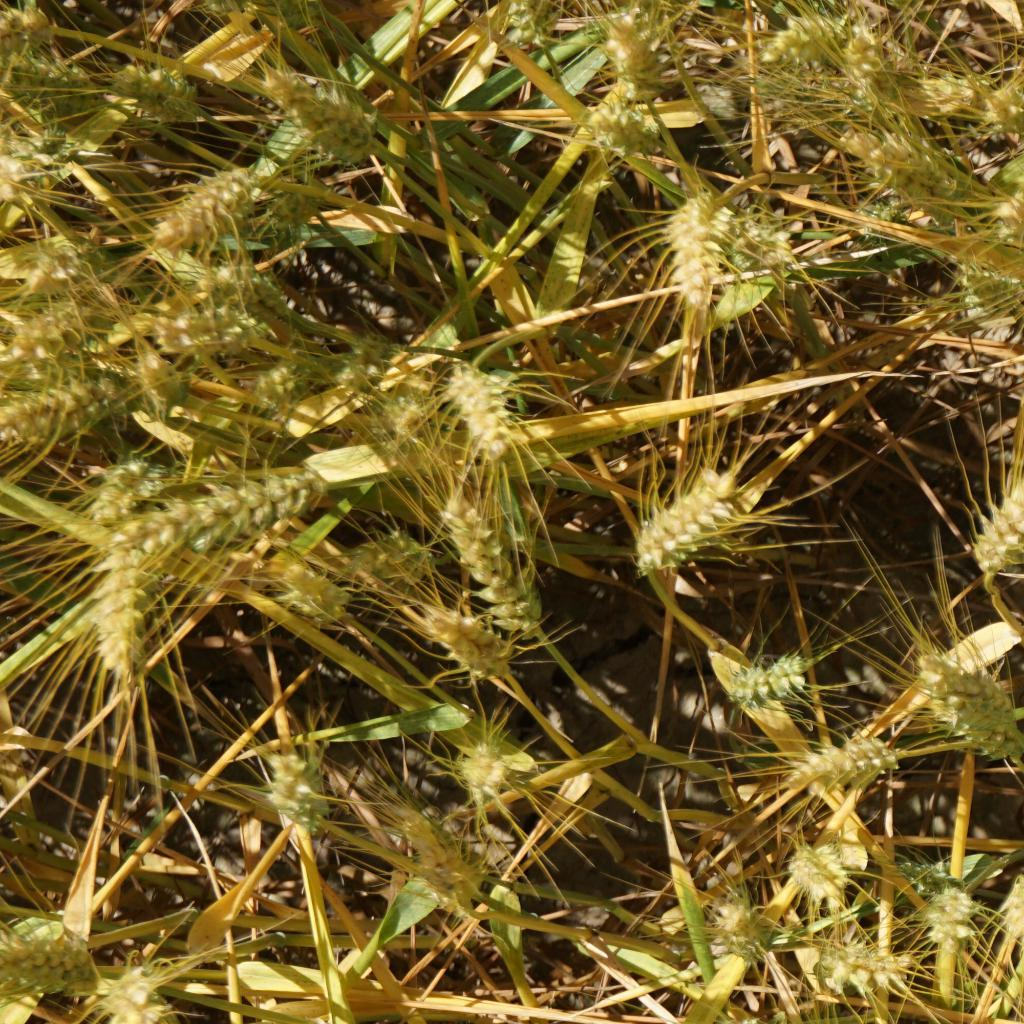0-0: (425, 481, 540, 630), (257, 53, 393, 173), (143, 162, 283, 264), (110, 474, 331, 536), (399, 801, 503, 931), (914, 647, 1024, 768), (81, 545, 168, 678), (0, 362, 126, 453), (921, 643, 1024, 754), (627, 480, 737, 570), (106, 47, 216, 135), (667, 189, 742, 313), (189, 247, 302, 327), (858, 135, 965, 219), (388, 795, 470, 894), (122, 332, 209, 423), (0, 929, 108, 1001), (782, 722, 892, 792), (412, 599, 504, 681), (969, 442, 1024, 564), (757, 0, 852, 70), (256, 743, 326, 837), (0, 51, 97, 118), (441, 366, 515, 450), (171, 314, 281, 369), (784, 841, 861, 912), (268, 561, 347, 630), (731, 654, 816, 718), (16, 225, 96, 290), (371, 385, 432, 470), (726, 214, 795, 286), (590, 19, 665, 84), (90, 447, 169, 507), (444, 731, 518, 795), (333, 328, 398, 400), (265, 173, 325, 246), (587, 93, 650, 162), (89, 968, 166, 1024), (706, 896, 771, 962), (265, 350, 343, 401), (359, 516, 417, 584), (822, 934, 885, 996), (13, 297, 82, 353), (918, 882, 969, 953), (995, 865, 1024, 986), (897, 860, 970, 905), (986, 171, 1024, 257), (968, 260, 1022, 319), (516, 0, 569, 58), (844, 37, 902, 89), (927, 75, 987, 124), (0, 14, 54, 49), (993, 81, 1024, 135)
